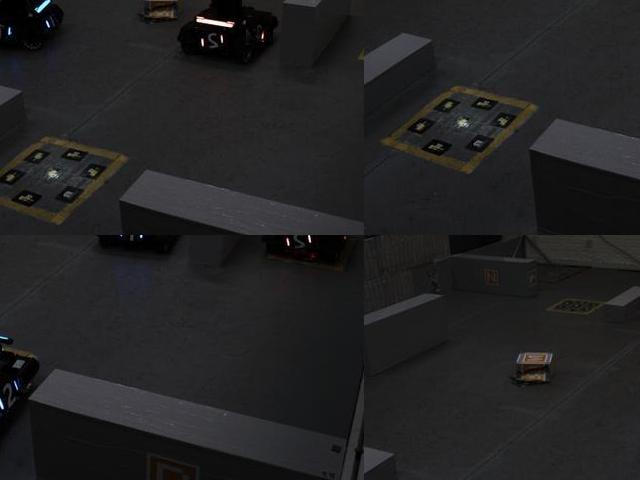armor: (195, 27, 229, 56), (247, 17, 275, 46), (284, 235, 317, 255), (42, 11, 61, 34), (0, 20, 15, 45), (116, 235, 147, 245)
